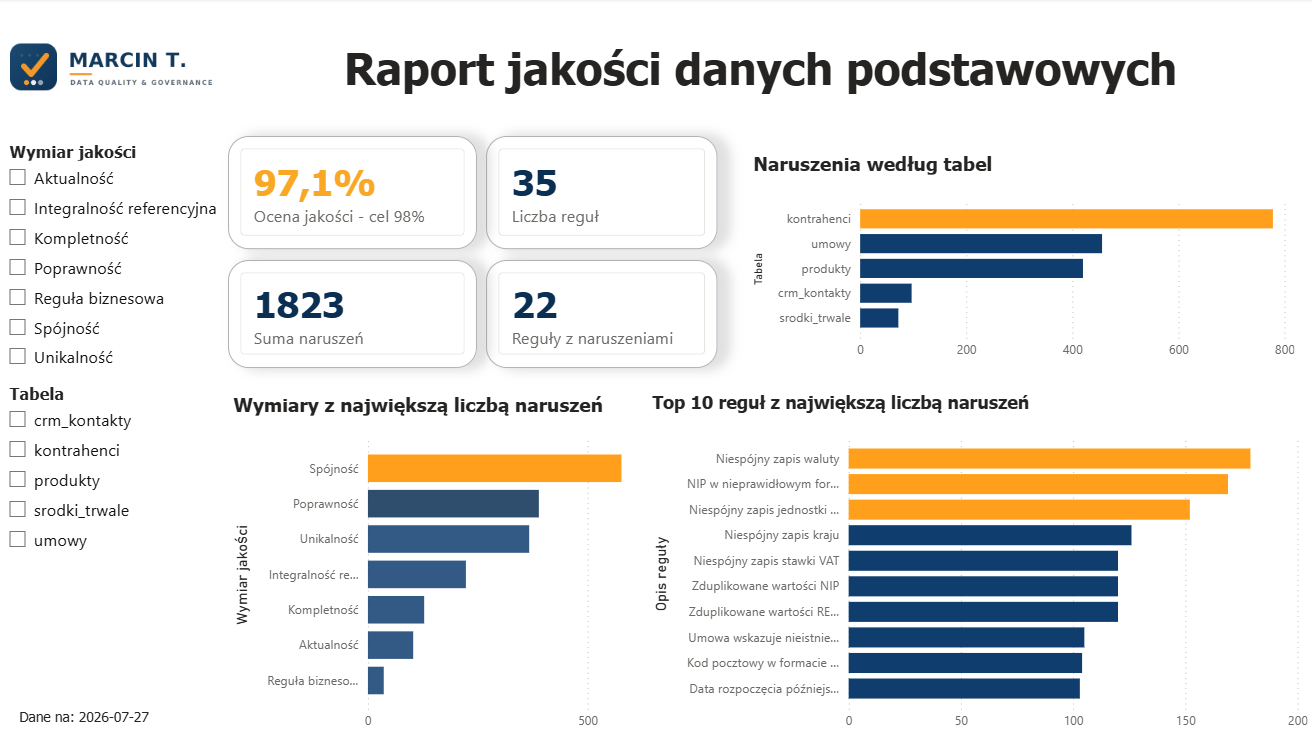

Layout of this report page (visuals, bound fields, positions):
{"tool":"powerbi","page":{"name":"Raport","canvas":[1280,720],"ordinal":0},"visuals":[{"type":"cardVisual","fields":{"Data":["dq_wyniki.Liczba reguł"]},"box":[476.2,134.1,225.5,109.8],"z":0},{"type":"cardVisual","fields":{"Data":["dq_wyniki.Reguły z naruszeniami"]},"box":[476.2,254.6,225.5,105],"z":1000},{"type":"clusteredBarChart","title":"Wymiary z największą liczbą naruszeń","fields":{"Category":["dq_wyniki.Wymiar_jakości"],"Y":["dq_wyniki.Suma naruszeń"]},"box":[225.5,382.9,407.2,337.3],"z":2000},{"type":"clusteredBarChart","title":"Top 10 reguł z największą liczbą naruszeń","fields":{"Category":["dq_wyniki.Opis_reguły"],"Y":["dq_wyniki.Suma naruszeń"]},"box":[632.7,382.9,647.3,337.3],"z":3000},{"type":"slicer","fields":{"Values":["dq_wyniki.Wymiar_jakości"]},"box":[0,134.1,225.5,235.2],"z":4000},{"type":"textbox","box":[225.5,36.9,1035.1,70.9],"z":5000},{"type":"cardVisual","fields":{"Data":["dq_wyniki.Suma naruszeń"]},"box":[225.5,254.6,242,105],"z":6000},{"type":"cardVisual","fields":{"Data":["dq_wyniki.Ogólny wskaźnik jakości %"]},"box":[225.5,134.1,242,109.8],"z":7000},{"type":"slicer","fields":{"Values":["dq_wyniki.Nazwa_tabeli"]},"box":[0,369.3,225.5,202.2],"z":8000},{"type":"clusteredBarChart","title":"Naruszenia według tabel","fields":{"Category":["dq_wyniki.Nazwa_tabeli"],"Y":["dq_wyniki.Suma naruszeń"]},"box":[730.9,148.7,536.5,210.9],"z":9000},{"type":"image","box":[0,0,266.3,134.1],"z":10000},{"type":"textbox","box":[17.5,684.2,158.4,27.2],"z":10001}]}

Visuals, with their boxes in screenshot pixels (x1, y1, x2, y2), scaled from the page's 1280x720 canvas onto the 1312x735 screenshot:
cardVisual - dq_wyniki.Liczba reguł: bbox=(488, 137, 719, 249)
cardVisual - dq_wyniki.Reguły z naruszeniami: bbox=(488, 260, 719, 367)
"Wymiary z największą liczbą naruszeń" clusteredBarChart: bbox=(231, 391, 649, 734)
"Top 10 reguł z największą liczbą naruszeń" clusteredBarChart: bbox=(649, 391, 1311, 734)
slicer - dq_wyniki.Wymiar_jakości: bbox=(0, 137, 231, 377)
textbox: bbox=(231, 38, 1292, 110)
cardVisual - dq_wyniki.Suma naruszeń: bbox=(231, 260, 479, 367)
cardVisual - dq_wyniki.Ogólny wskaźnik jakości %: bbox=(231, 137, 479, 249)
slicer - dq_wyniki.Nazwa_tabeli: bbox=(0, 377, 231, 583)
"Naruszenia według tabel" clusteredBarChart: bbox=(749, 152, 1299, 367)
image: bbox=(0, 0, 273, 137)
textbox: bbox=(18, 698, 180, 726)
